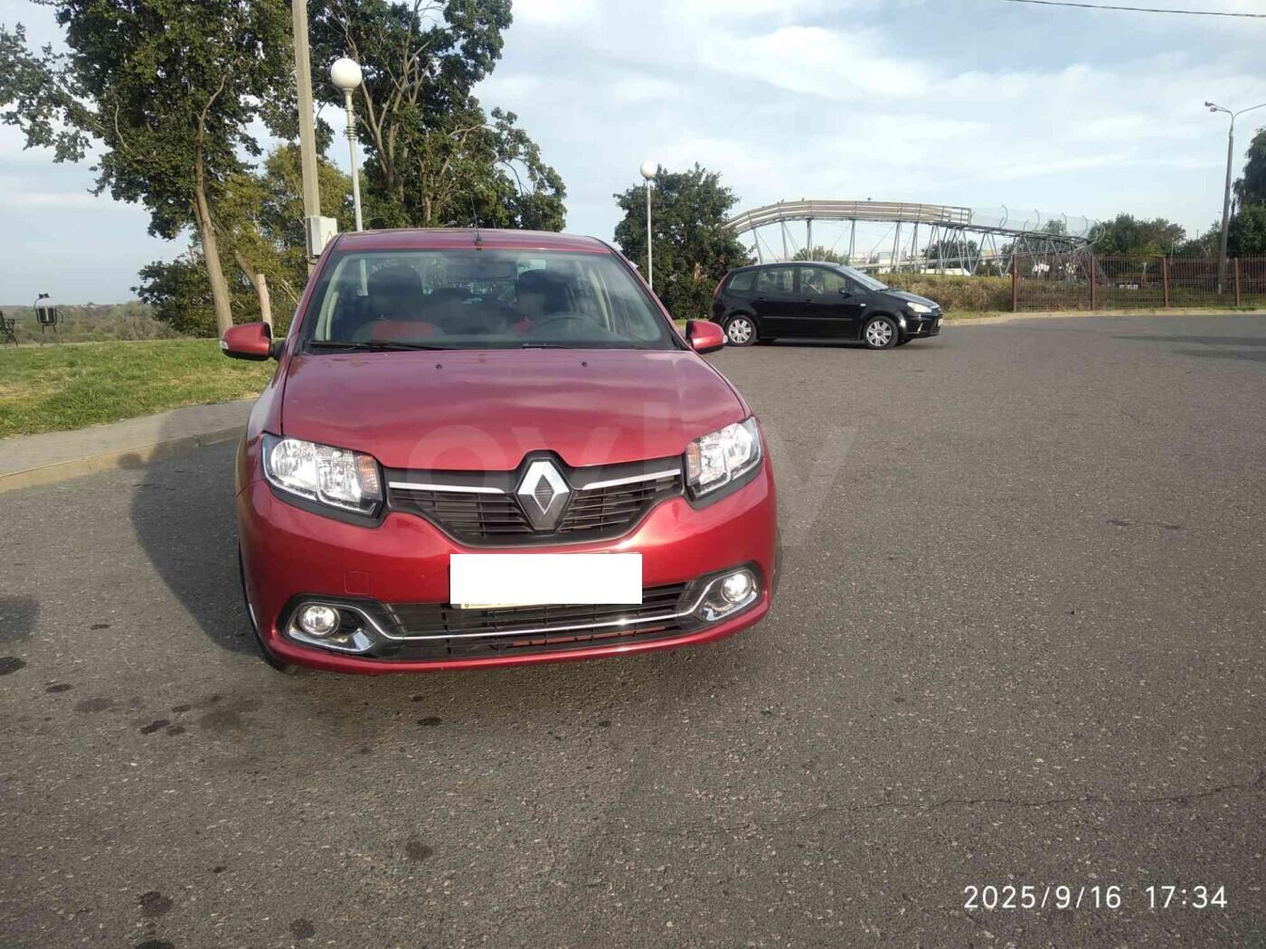Logan_2013-2018: (218, 222, 783, 664)
